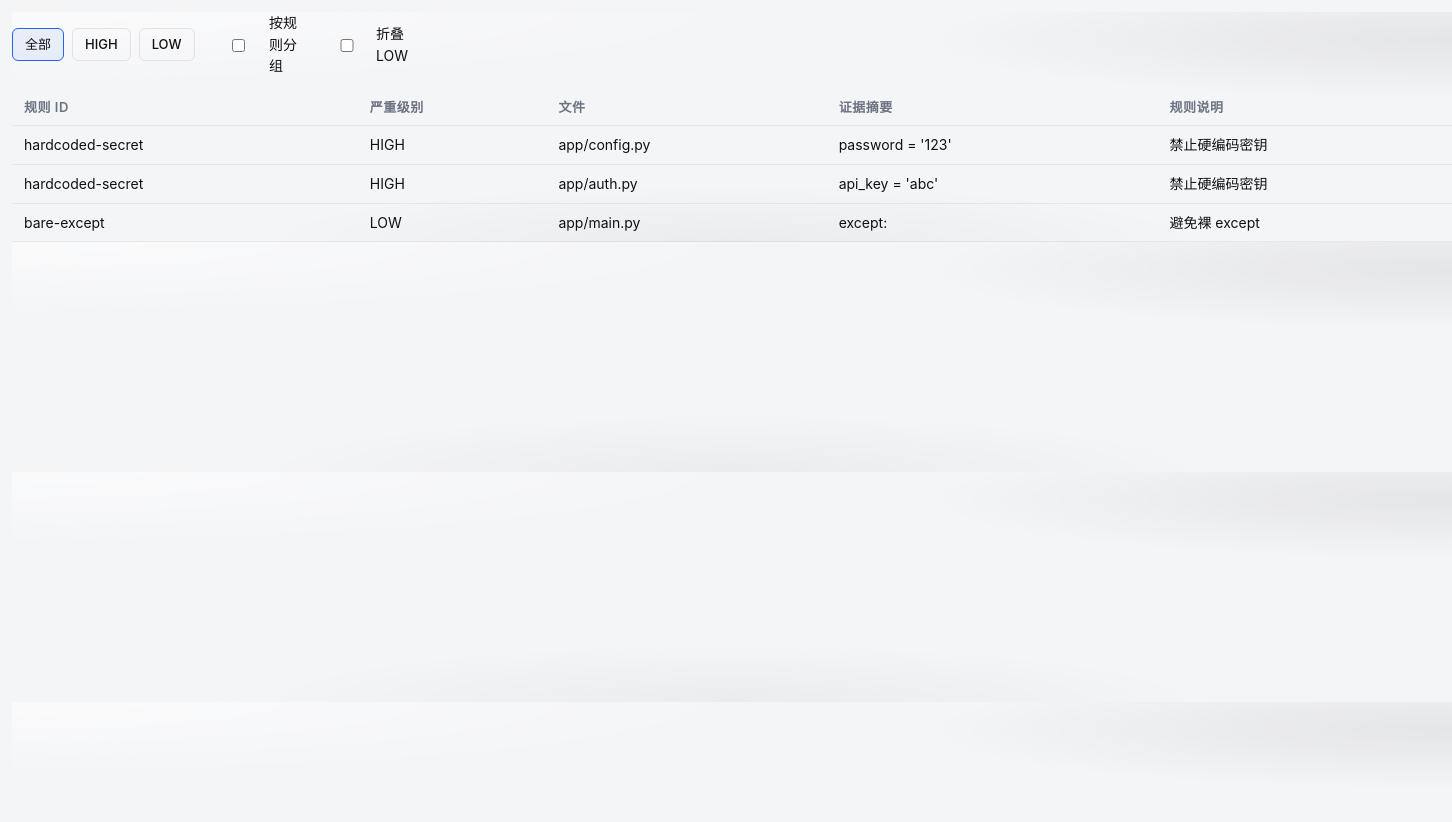
Test: RuleHitsPanel › 按严重级别筛选
The image size is (1452, 822).
Click the button "LOW".
click(167, 45)  # box [139,28,194,61]
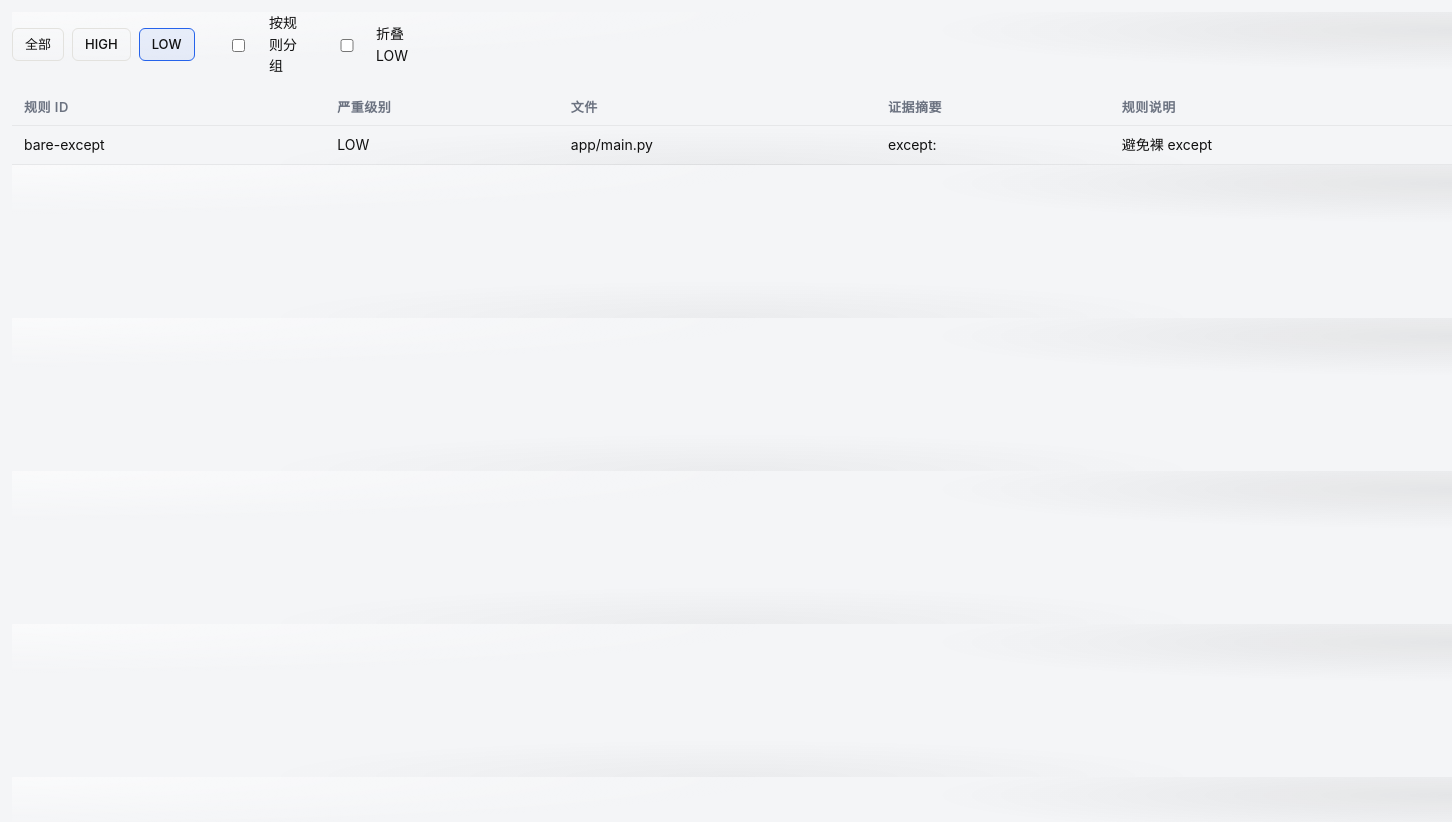
Expected: the text "避免裸 except" is shown, [1110,126,1451,164]
Result: the text "禁止硬编码密钥" is gone
